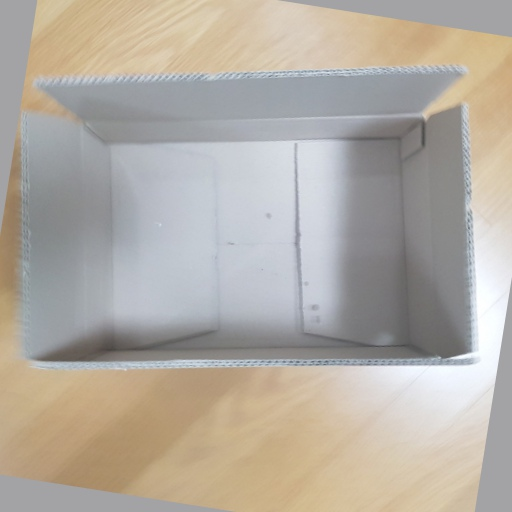Paper_0: (18, 63, 486, 371)
